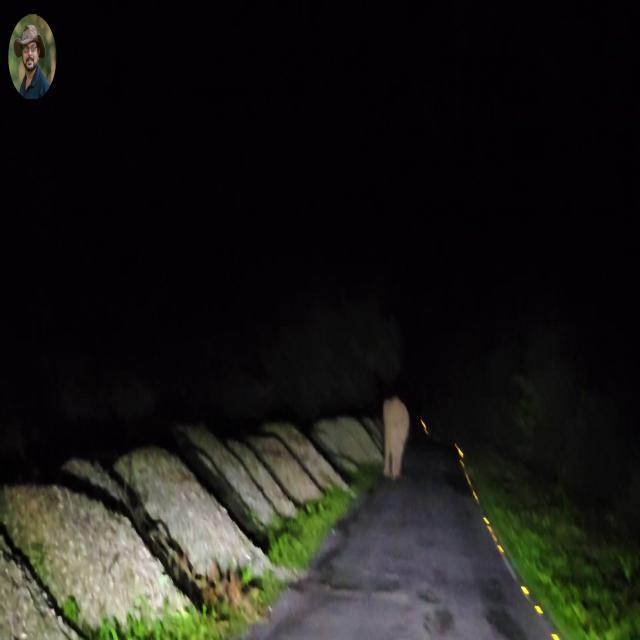Elephant: (382, 397, 409, 478)
